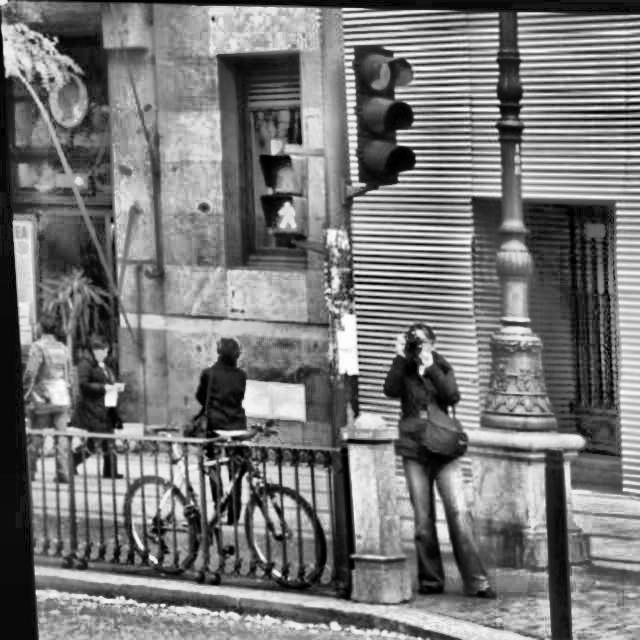semaforo pedestre: (236, 130, 337, 270)
